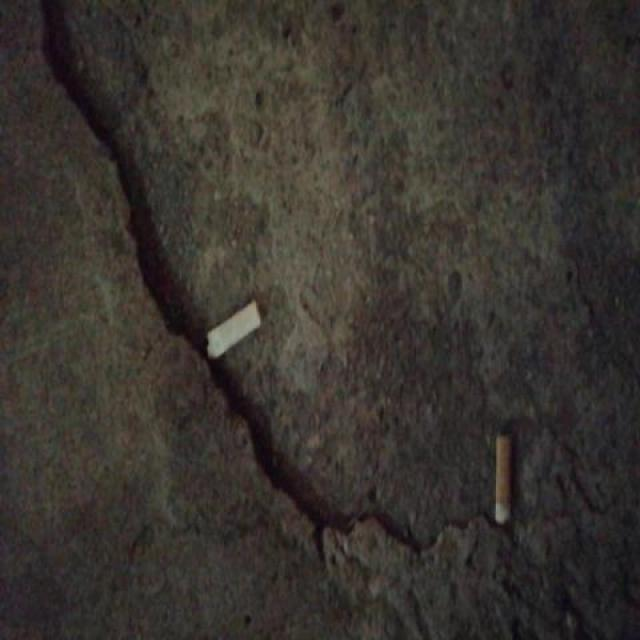non-organic waste: (203, 294, 265, 370), (492, 430, 517, 531)
